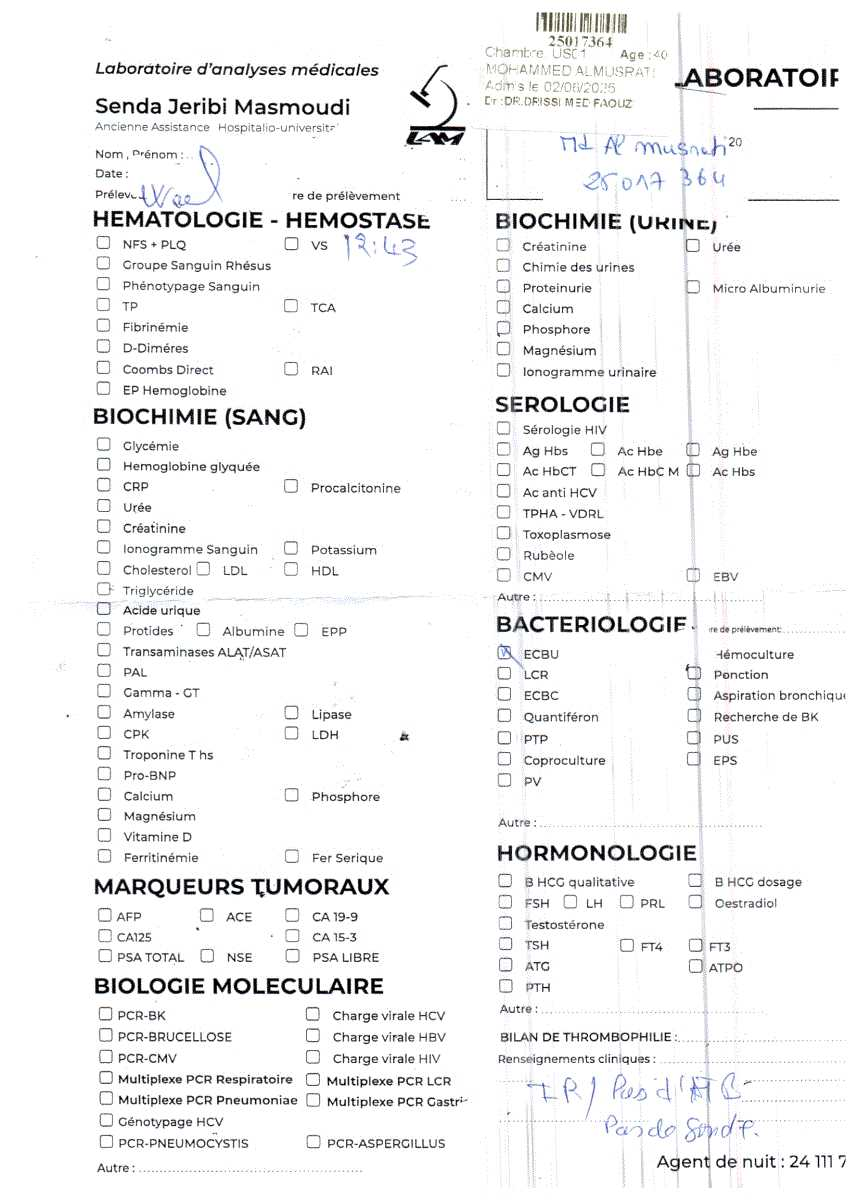zone_analyses: (89, 207, 846, 1200)
zone_date: (541, 82, 619, 93)
zone_patient: (484, 59, 658, 79)
zone_prescripteur: (482, 95, 640, 109)
